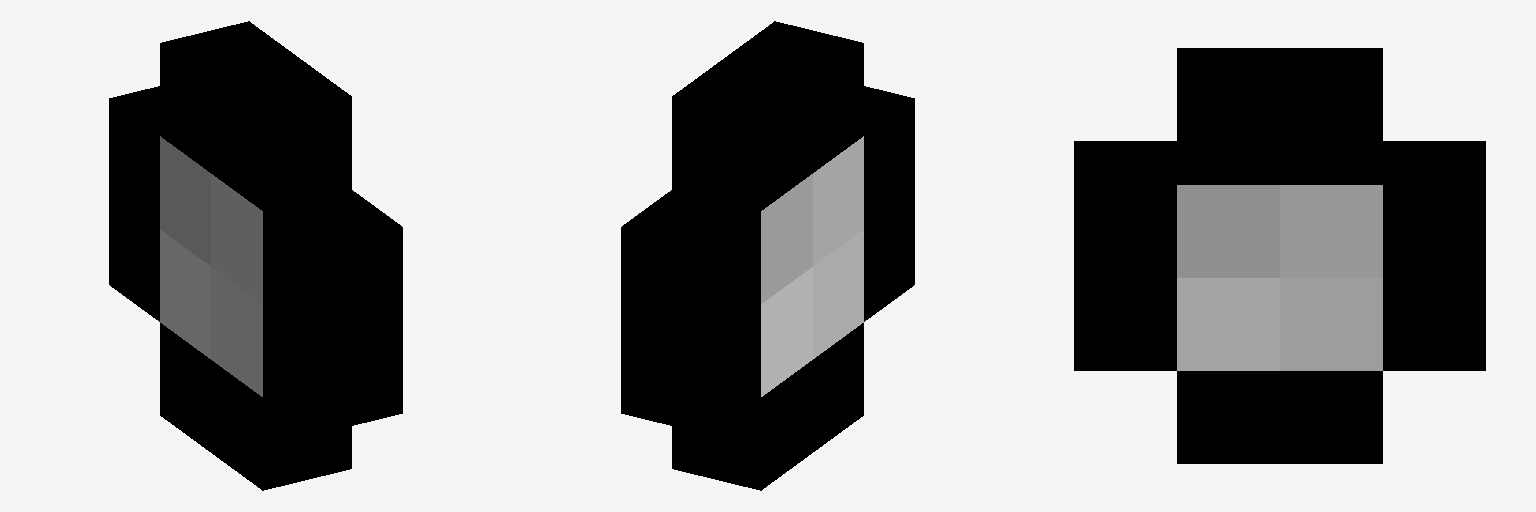
3 renders of one model, left to right at view 1: azimuth 30°, elevation 25°; view 2: azimuth 150°, elevation 25°; view 3: azimuth 270°, elevation 25°, orthographic.
Parts seen in each view (by area): view 1: cube; view 2: cube; view 3: cube.
Part boxes in pixels (bbox=[...]): cube: bbox=[109, 21, 402, 490]; cube: bbox=[621, 21, 914, 490]; cube: bbox=[1074, 48, 1485, 463].
Bounding box in the file's own units: 1 × 4 × 4.
Materials: 1 (1 with a texture image).